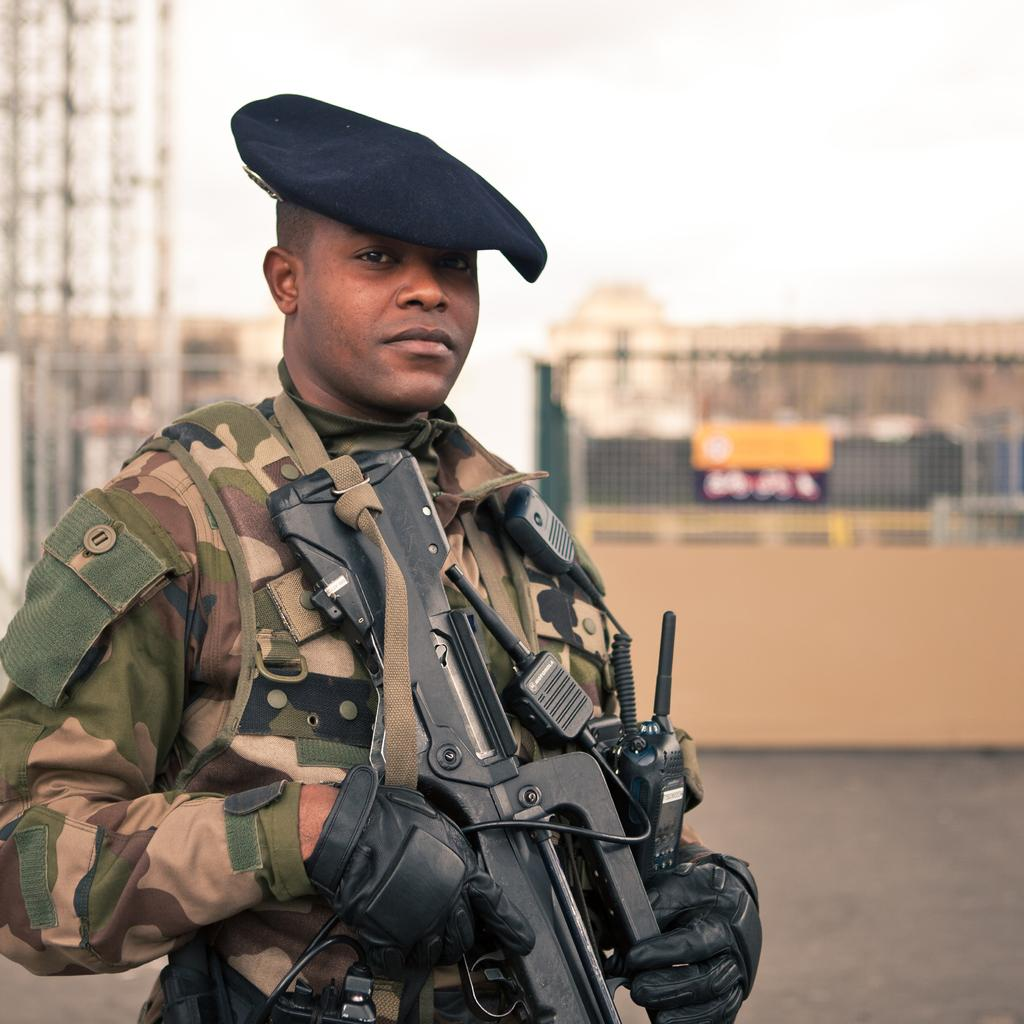non-violence: (4, 183, 767, 1013)
weapon: (264, 444, 662, 1023)
